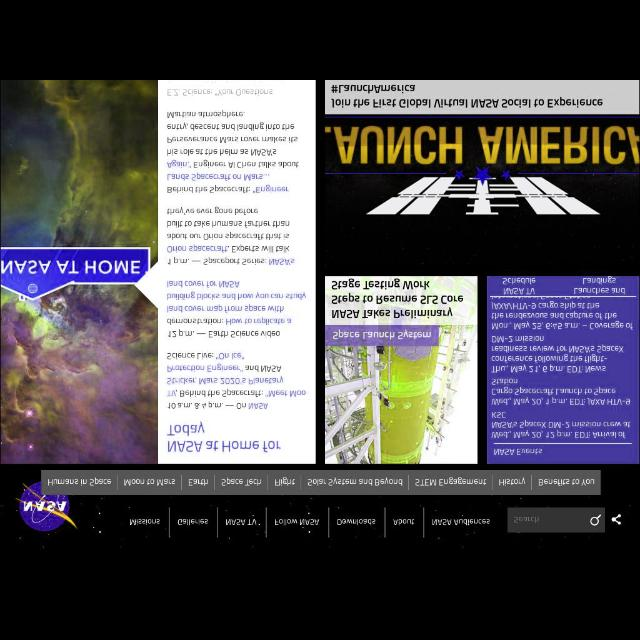icon: (611, 514, 623, 528), (589, 513, 601, 525)
image: (1, 81, 157, 463), (323, 116, 639, 268), (326, 326, 476, 462), (20, 482, 76, 532)
input: (508, 506, 604, 532)
multitab: (43, 470, 601, 494)
text: (166, 109, 300, 193), (168, 274, 306, 338), (168, 350, 306, 410), (165, 208, 295, 266), (331, 84, 604, 108), (492, 334, 624, 374), (332, 279, 463, 319), (492, 296, 634, 330), (491, 412, 632, 440), (168, 421, 282, 453), (492, 378, 630, 404), (332, 328, 430, 342), (574, 274, 626, 296), (167, 85, 273, 95), (306, 477, 404, 487), (414, 477, 486, 487), (48, 476, 110, 486), (502, 278, 536, 296), (538, 476, 594, 486), (431, 518, 492, 526), (124, 478, 176, 487), (494, 448, 542, 456), (274, 518, 320, 526), (128, 517, 160, 527), (336, 518, 376, 526), (222, 479, 262, 487), (224, 519, 262, 527), (513, 515, 539, 525), (500, 477, 526, 487), (392, 516, 413, 528), (178, 518, 208, 526), (188, 478, 208, 487), (274, 478, 294, 487)
toolbar: (1, 464, 639, 558)
